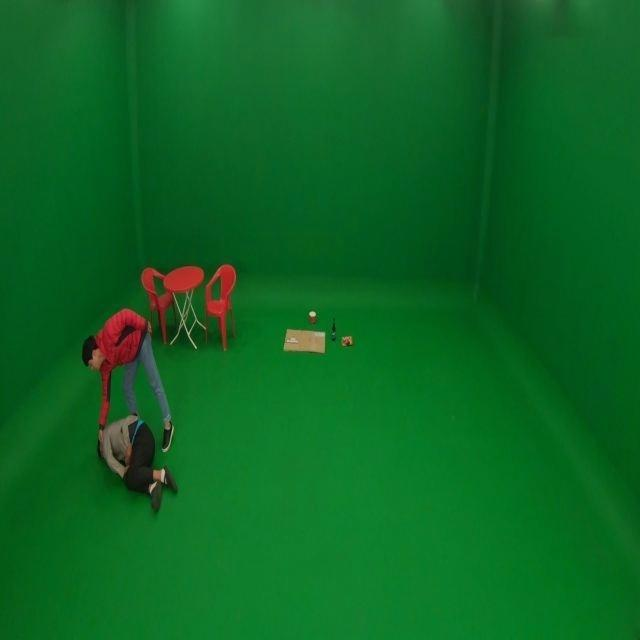fight: (76, 304, 184, 514)
